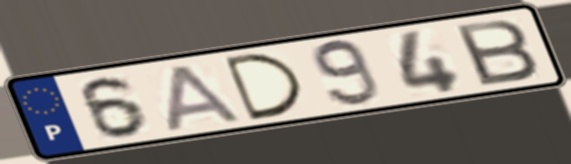4: (396, 27, 465, 95)
6: (78, 74, 152, 140)
9: (312, 35, 386, 112)
A: (164, 61, 247, 133)
B: (450, 16, 543, 88)
D: (218, 50, 308, 123)
